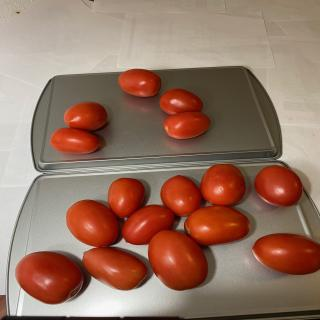Tomato: (15, 251, 84, 305), (148, 229, 208, 291), (82, 247, 148, 291), (251, 233, 320, 275), (184, 205, 250, 246), (66, 199, 119, 247), (122, 204, 174, 245), (254, 165, 303, 207), (200, 164, 246, 206), (160, 174, 202, 217), (108, 178, 146, 218), (63, 101, 108, 131), (118, 68, 162, 98), (50, 128, 100, 154), (163, 112, 211, 139), (159, 88, 203, 115)
